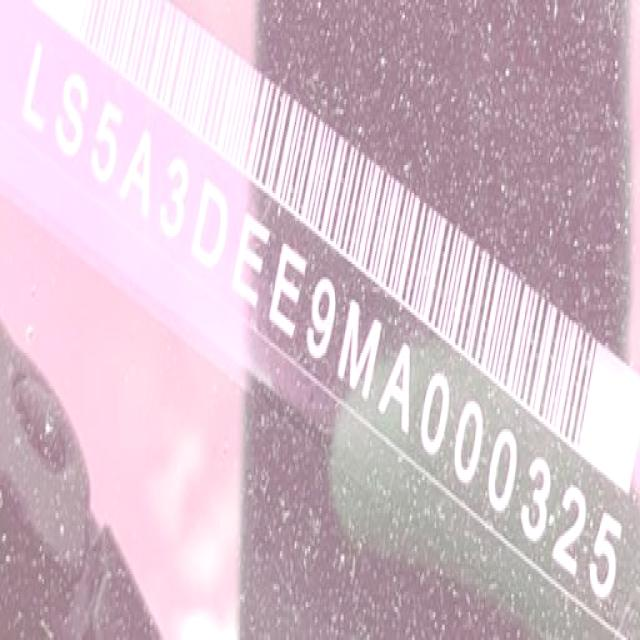0: (479, 415, 528, 523), (447, 384, 492, 501), (413, 357, 458, 467)
2: (548, 468, 594, 586)
3: (514, 440, 559, 555), (154, 143, 196, 252)
5: (581, 500, 627, 610), (86, 89, 127, 198)
9: (300, 266, 341, 371)
A: (115, 115, 164, 238), (374, 324, 423, 446)
D: (227, 203, 276, 320), (265, 236, 313, 351), (187, 176, 235, 284)
L: (15, 33, 58, 145)
M: (331, 291, 388, 413)
S: (48, 62, 98, 174)
